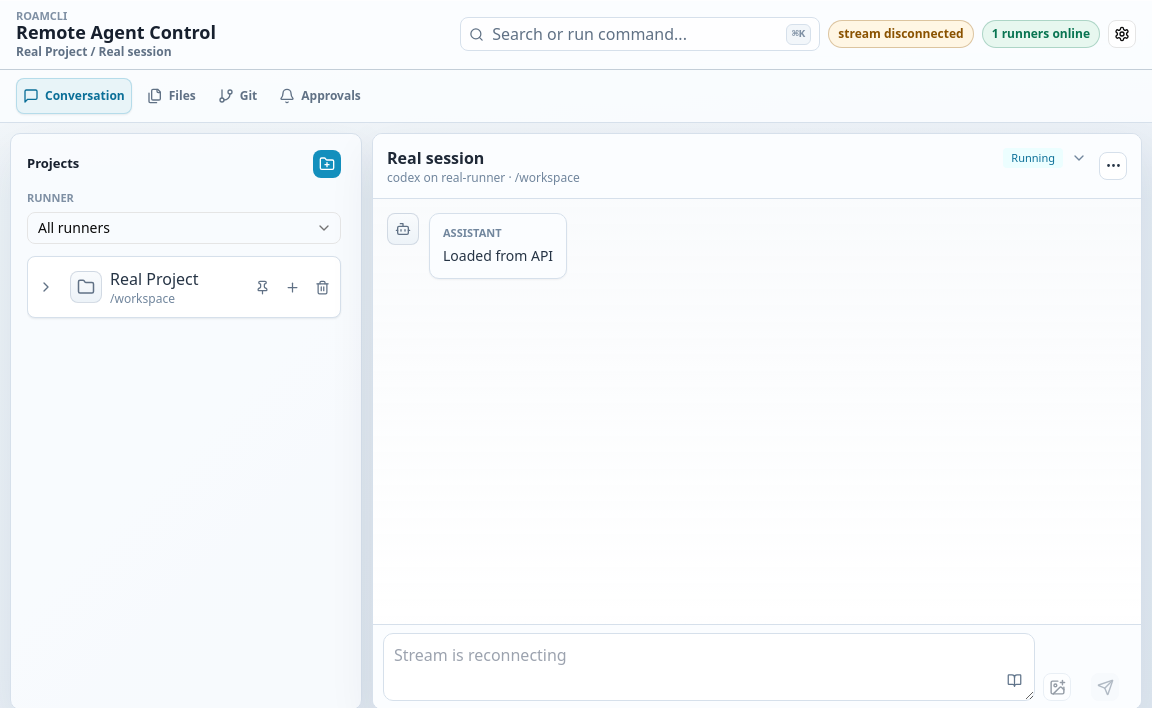
Scenario: App › keeps account security usable when install metadata is unavailable
This screenshot has width=1152, height=708.
Expected: the text "Loaded from API" is shown, [443,245,553,267]
Step 1. Click the button named "Settings" → (1122, 34), box [1108,20,1136,48]
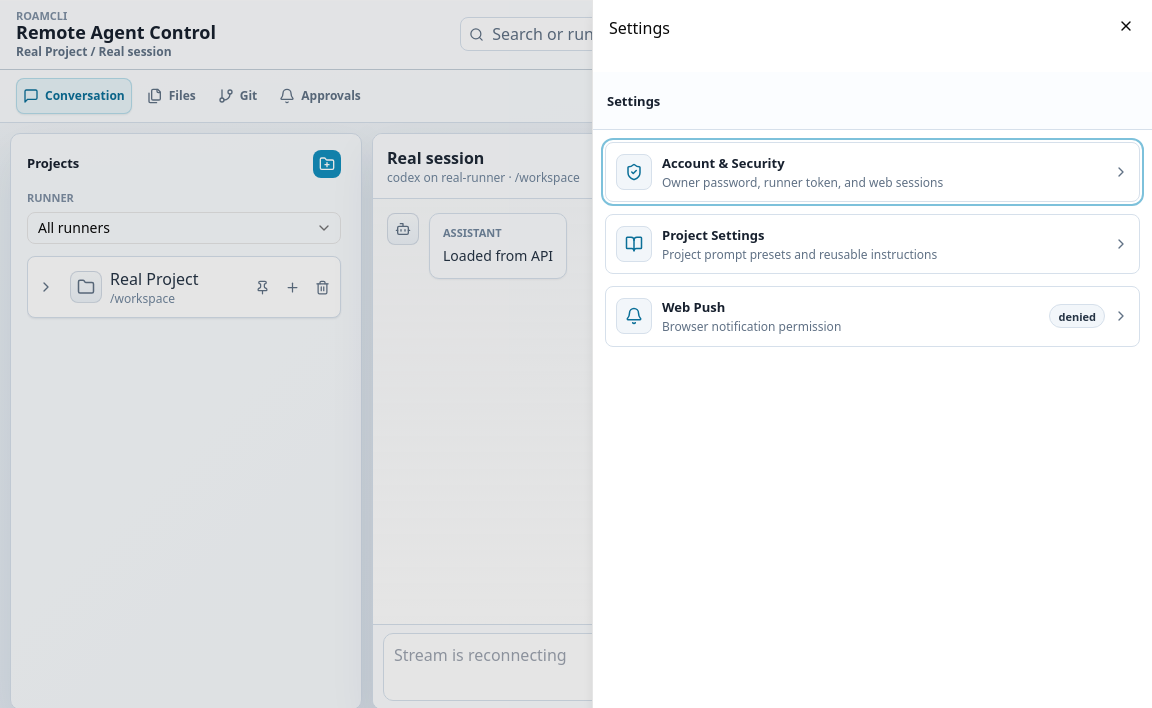
Step 2. Click the button "Account & Security" → (872, 172), box [605,142,1140,202]
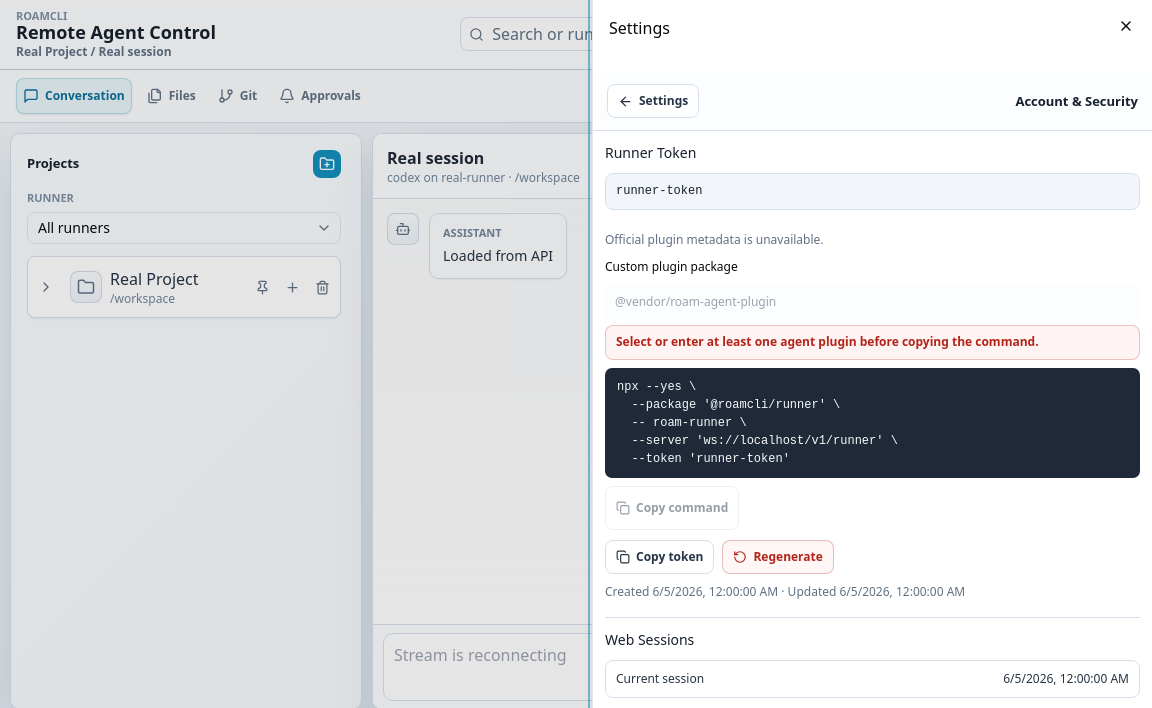
Expected: the text named "Runner token" reads "runner-token", [616,184,702,198]
Expected: the text "--token 'runner-token'" is shown, [617,380,898,466]
Expected: the field labelled "Custom plugin package" is shown, [605,283,1140,321]
